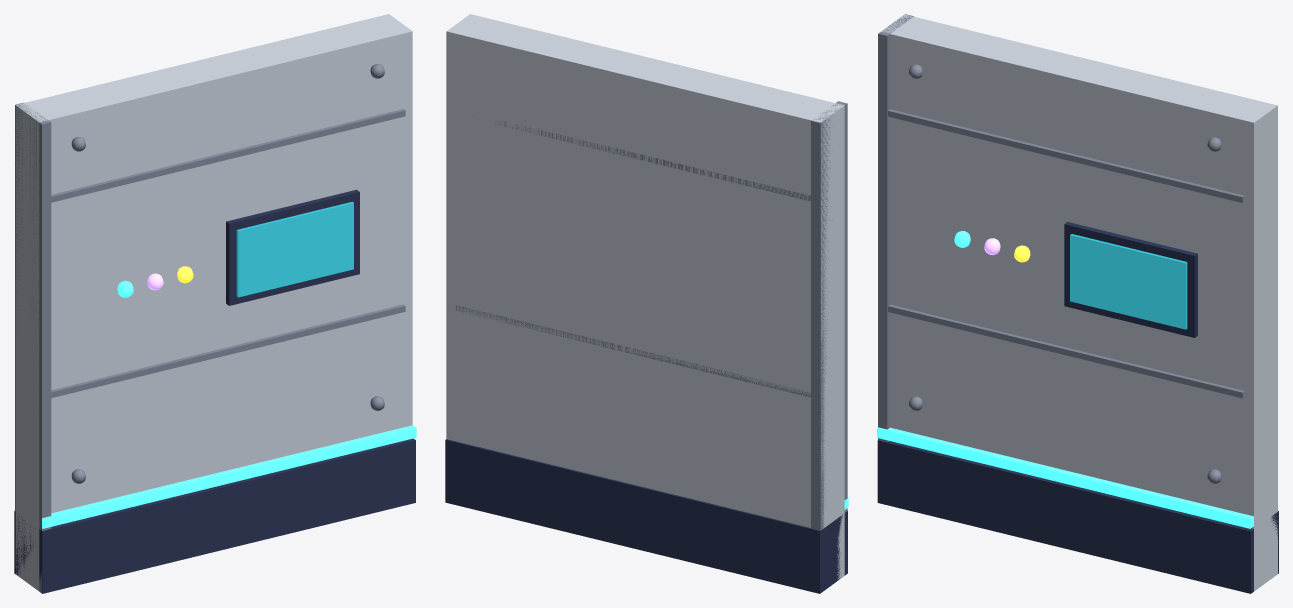
Rendered from space_wall_panel.glb.
3 renders of one model, left to right at view 1: azimuth 30°, elevation 25°; view 2: azimuth 150°, elevation 25°; view 3: azimuth 330°, elevation 25°, orthographic.
Bounding box in the file's own units: 2 × 2.4 × 0.29.
